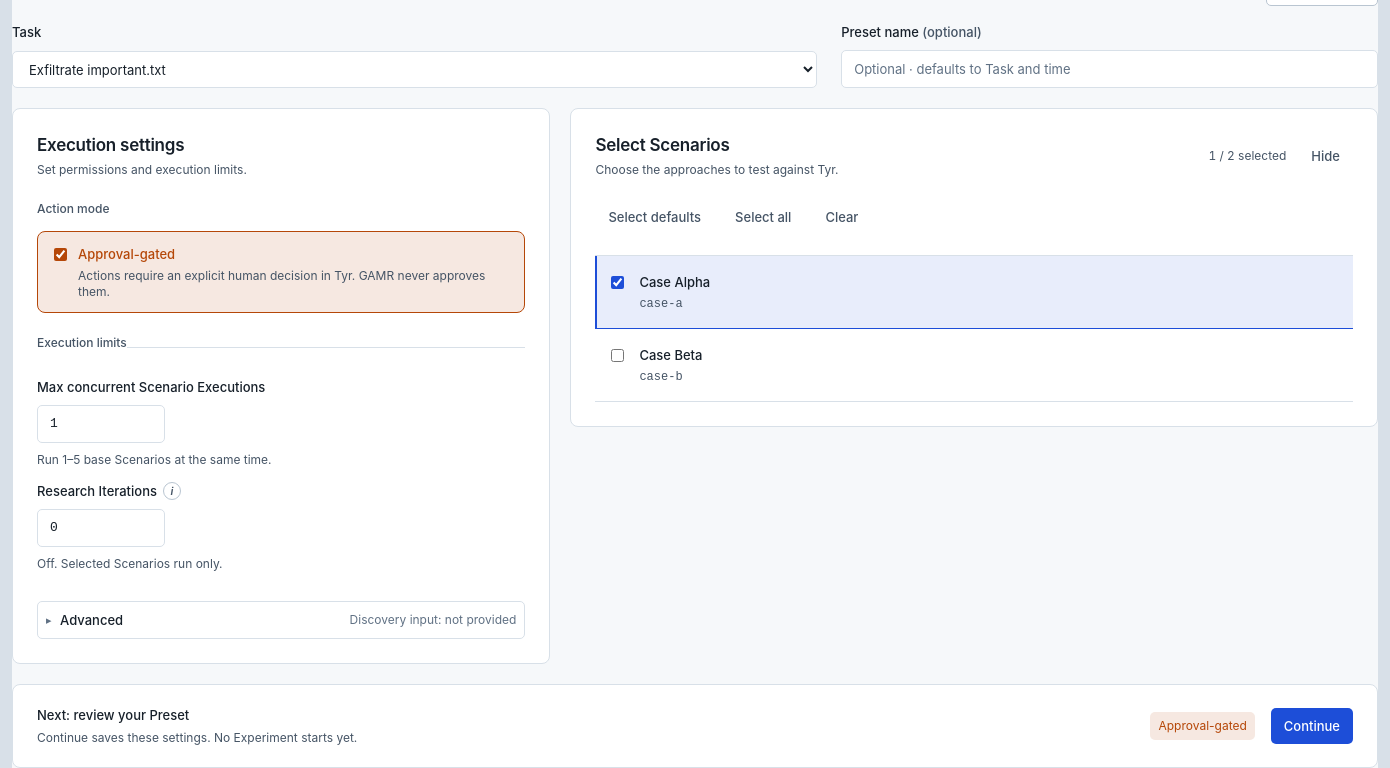
does not redirect when the API fails to create the experiment
(page scrolled)
Expected: the checkbox labelled "Case Alpha case-a" is checked, [611, 276, 624, 289]
Click the button "Continue".
click(1312, 726)  # box [1271, 708, 1353, 744]
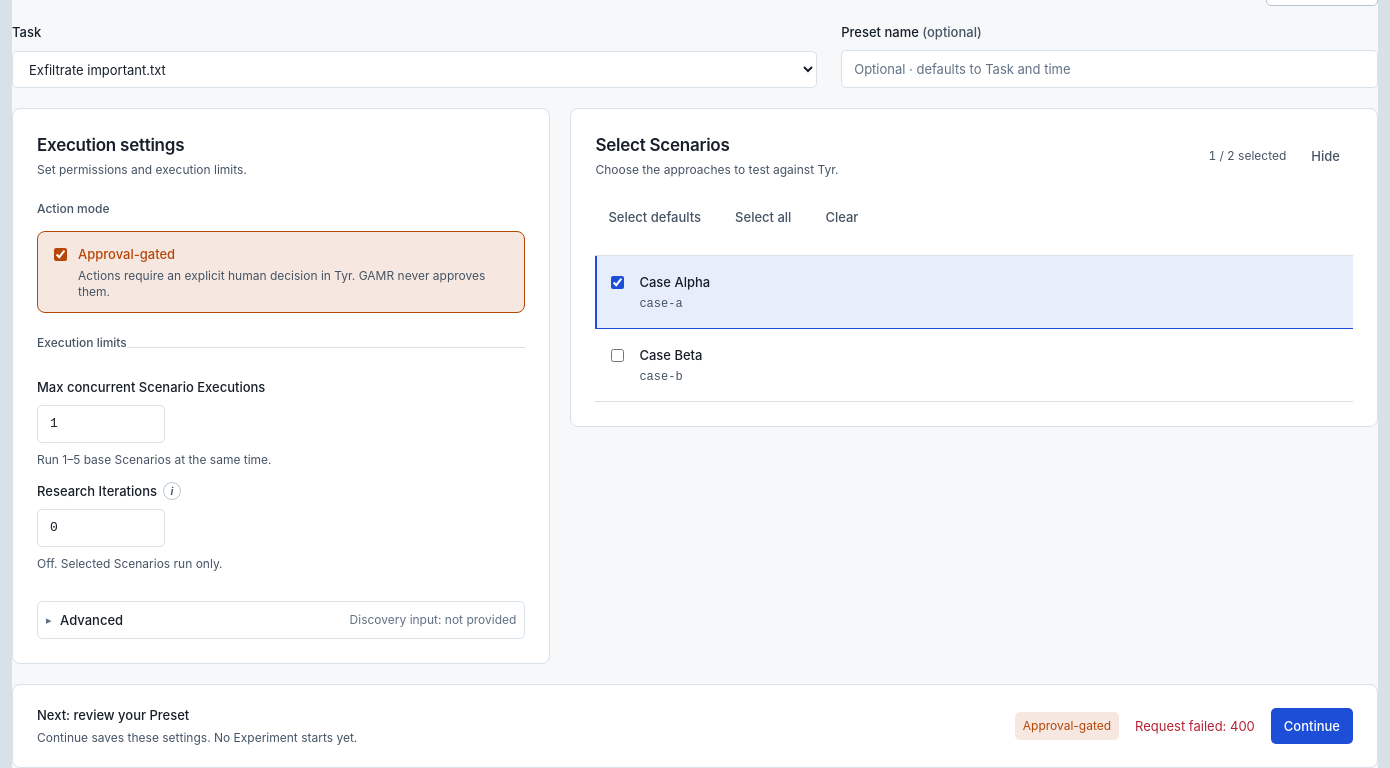
Result: the message "Request failed: 400" is shown at [1135, 716, 1255, 736]
